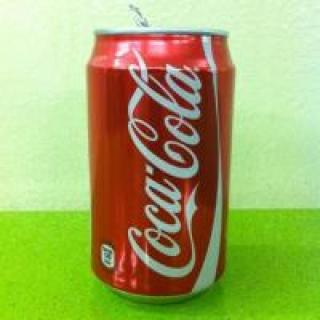Anorganik: (77, 4, 246, 306)
